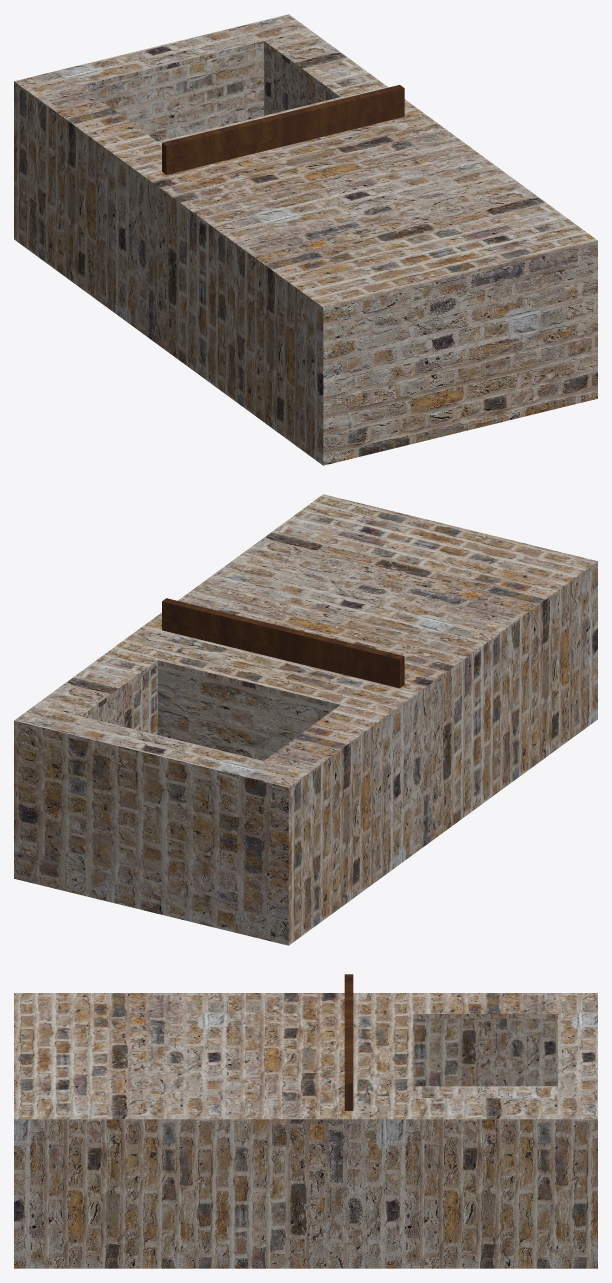
File: fireplace 7.24.18.fbx
3 renders of one model, top to bottom at view 1: azimuth 30°, elevation 25°; view 2: azimuth 150°, elevation 25°; view 3: azimuth 270°, elevation 25°, orthographic. The views are drawn at different scales.
Visible parts, largest first — view 1: fireplace; view 2: fireplace; view 3: fireplace.
Part boxes in pixels (box(x1,y1,x2,y2)): fireplace: box(14, 14, 597, 465); fireplace: box(14, 494, 597, 945); fireplace: box(14, 974, 597, 1268).
Bounding box in the file's own units: 60 × 39 × 117.
